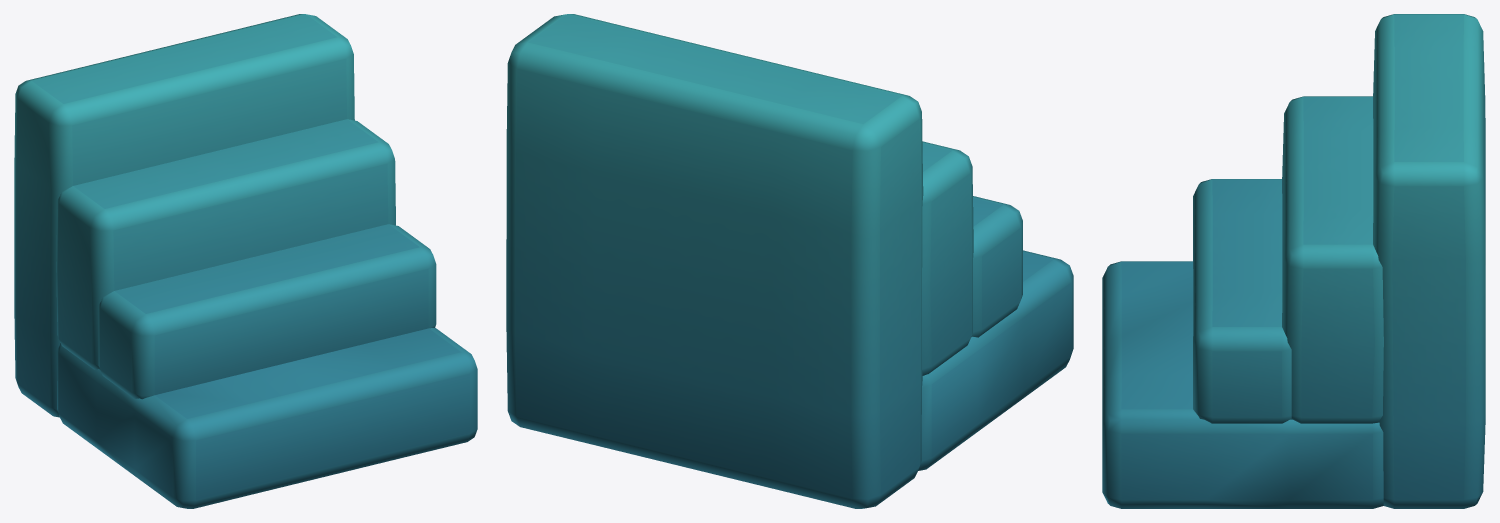
Rendered from Ice_Stair_Straight.fbx.
3 views of the same model, side by side, from view 1: azimuth 30°, elevation 25°; view 2: azimuth 150°, elevation 25°; view 3: azimuth 270°, elevation 25° (orthographic). The views are drawn at different scales.
Visible parts, largest first — view 1: Ice_Stair_Straight_LOD0; view 2: Ice_Stair_Straight_LOD0; view 3: Ice_Stair_Straight_LOD0.
Boxes of the visible parts, x1=… form: Ice_Stair_Straight_LOD0: x1=14, y1=14, x2=477, y2=508; Ice_Stair_Straight_LOD0: x1=506, y1=14, x2=1073, y2=508; Ice_Stair_Straight_LOD0: x1=1102, y1=14, x2=1485, y2=508.
Size of what is drawn, in the model's own units: 1.06 by 1.05 by 1.05.
